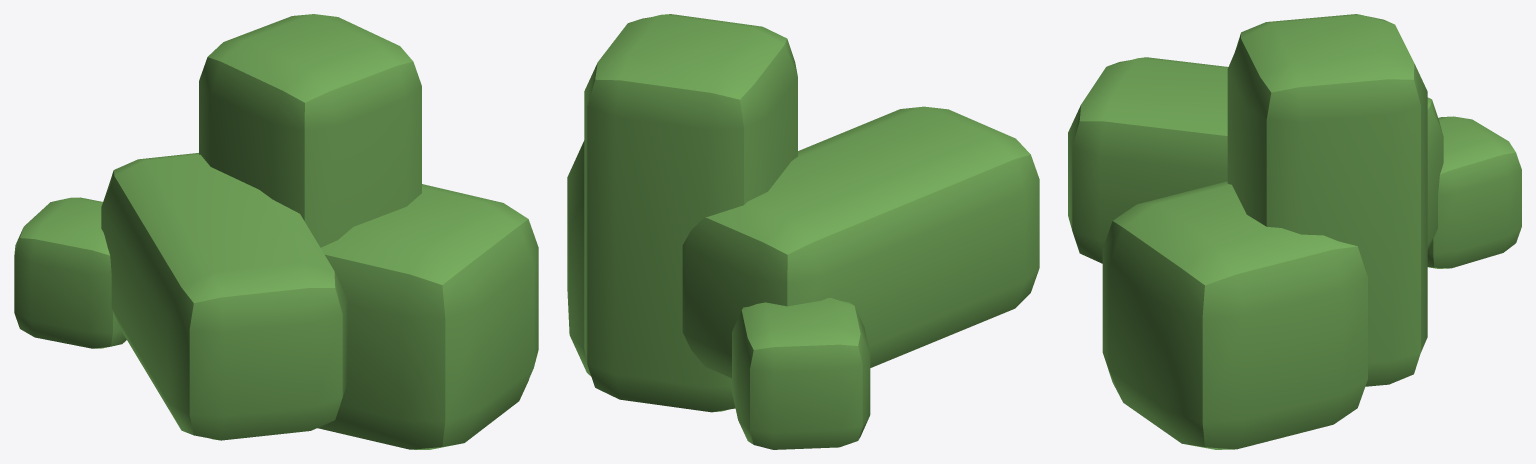
The model's file is foliage_04.fbx.
The picture shows the model from 3 angles, left to right: view 1: azimuth 30°, elevation 25°; view 2: azimuth 150°, elevation 25°; view 3: azimuth 270°, elevation 25°; orthographic projection. The views are drawn at different scales.
Parts seen in each view (by area): view 1: foliage_04; view 2: foliage_04; view 3: foliage_04.
Part boxes in pixels (bbox=[...]): foliage_04: bbox=[14, 14, 538, 449]; foliage_04: bbox=[567, 14, 1039, 449]; foliage_04: bbox=[1068, 14, 1521, 449].
Bounding box in the file's own units: 6.06 × 5.18 × 6.01.
